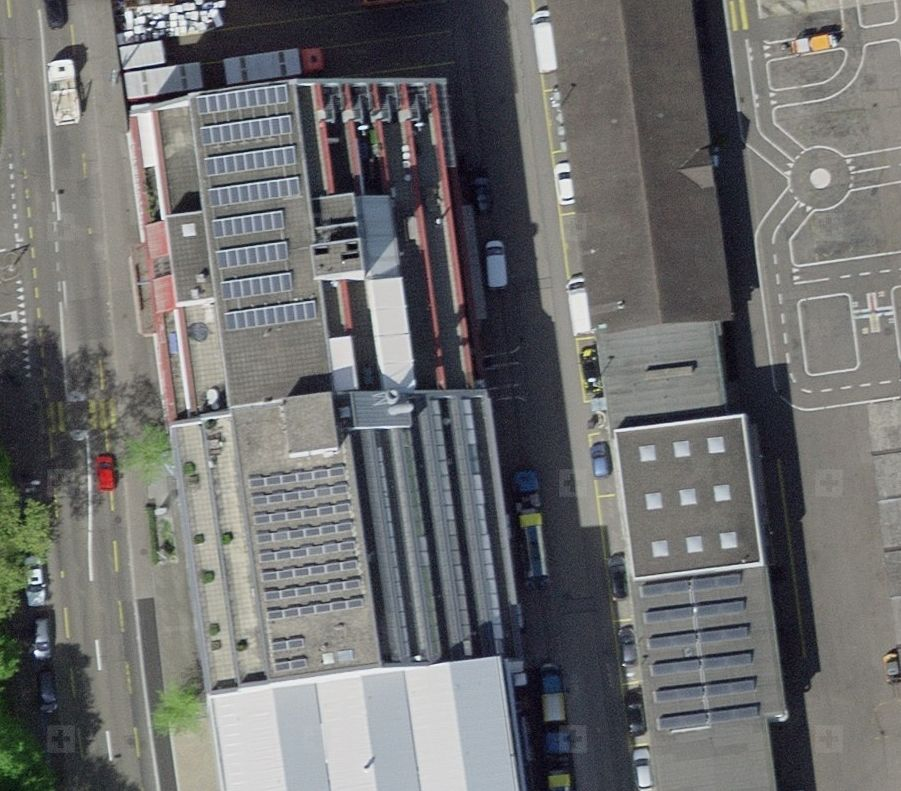solar: (194, 81, 321, 331), (247, 463, 368, 671), (634, 567, 768, 737), (629, 566, 758, 623), (638, 620, 767, 676), (646, 674, 771, 731), (631, 592, 754, 626), (648, 698, 769, 730), (637, 621, 763, 650), (631, 565, 751, 595), (651, 673, 765, 702), (647, 647, 764, 675)
